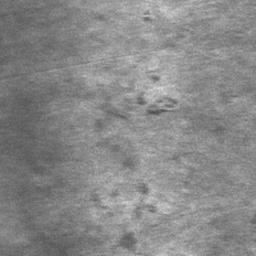Rolled in scale: (147, 98, 178, 116), (149, 71, 160, 82), (114, 113, 128, 120), (143, 11, 151, 22), (185, 24, 193, 33), (148, 205, 155, 214)
